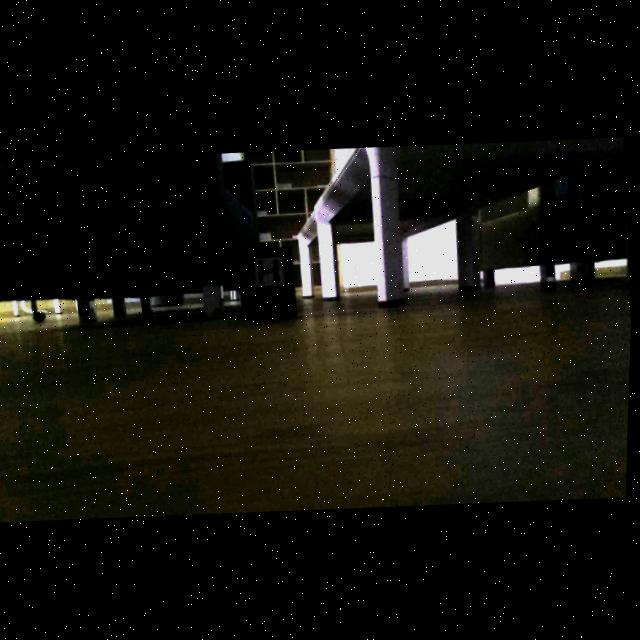H: (260, 258, 280, 281)
